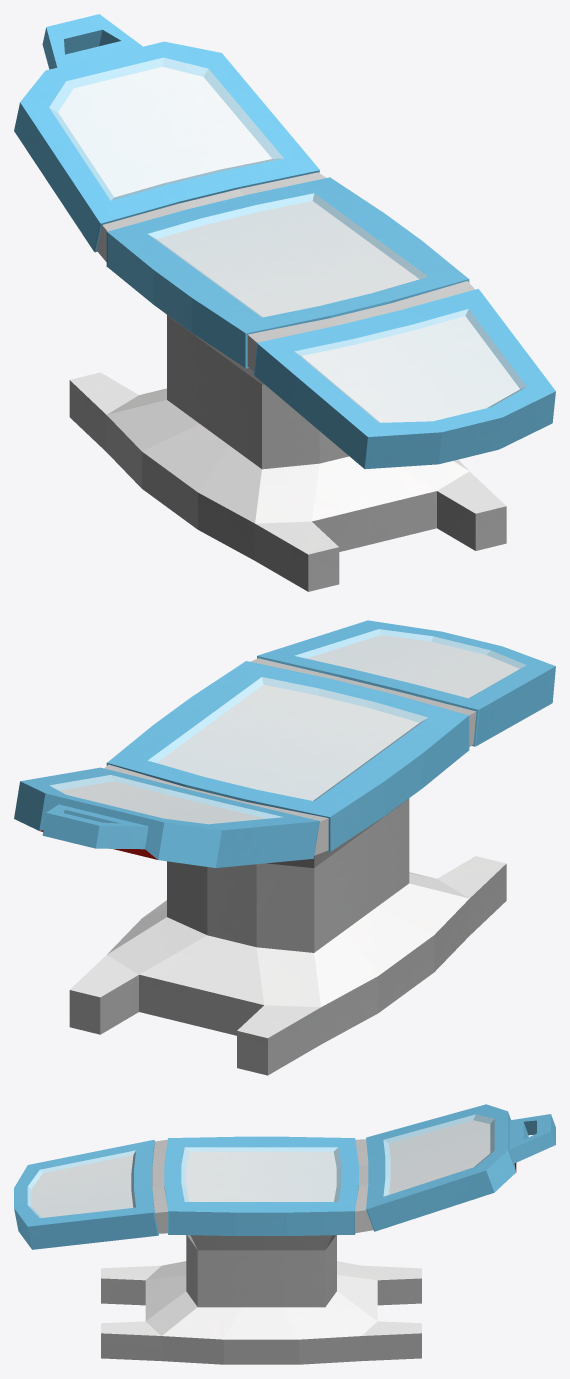
Rendered from bed_4.glb.
3 renders of one model, top to bottom at view 1: azimuth 30°, elevation 25°; view 2: azimuth 150°, elevation 25°; view 3: azimuth 270°, elevation 25°, orthographic. The views are drawn at different scales.
Parts seen in each view (by area): view 1: bed_4; view 2: bed_4; view 3: bed_4.
Boxes of the visible parts, <box> form: bed_4: <box>14,14,555,591</box>; bed_4: <box>14,620,555,1075</box>; bed_4: <box>14,1104,555,1364</box>.
Size of the model in its own units: 0.5363 by 0.6555 by 1.58.
Materials: 1 (1 with a texture image).
